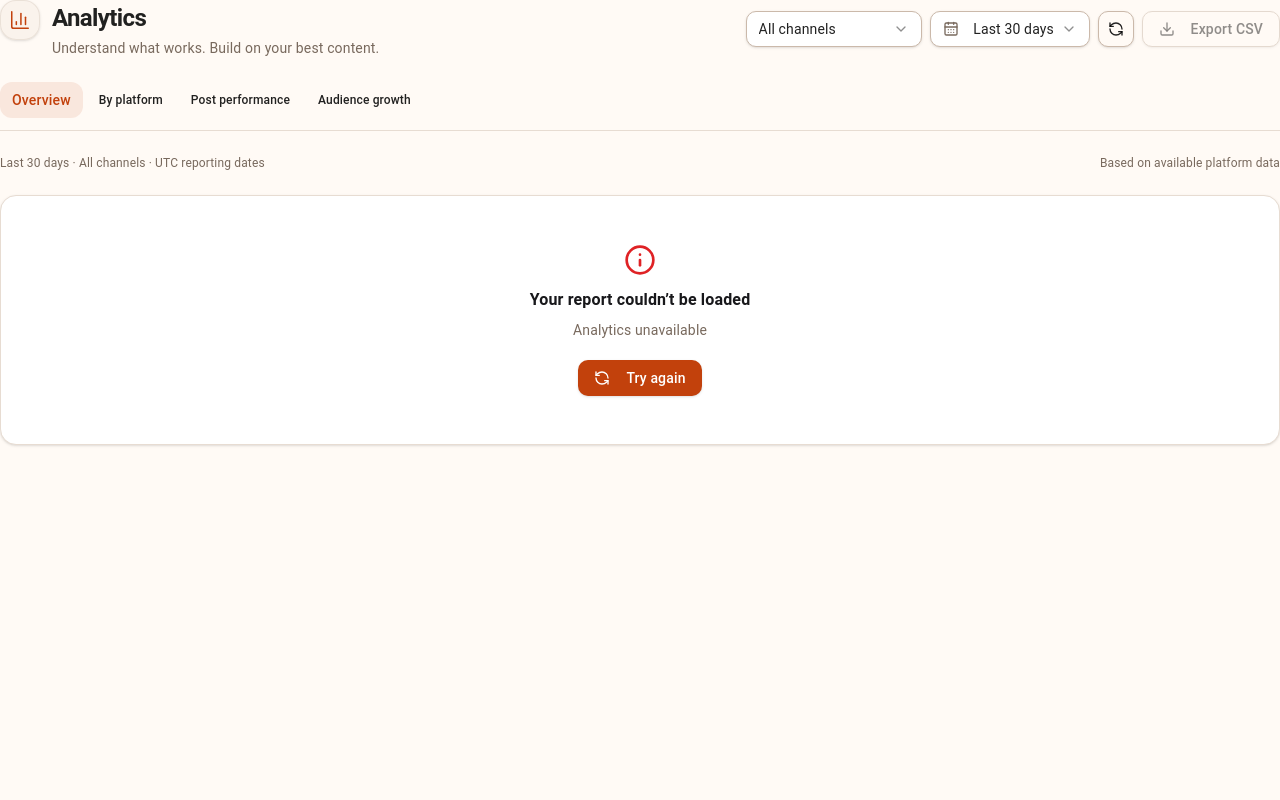
Scenario: AnalyticsOverview › retries failed reports
Click the button "Try again" at (640, 378), box [578,360,702,396]
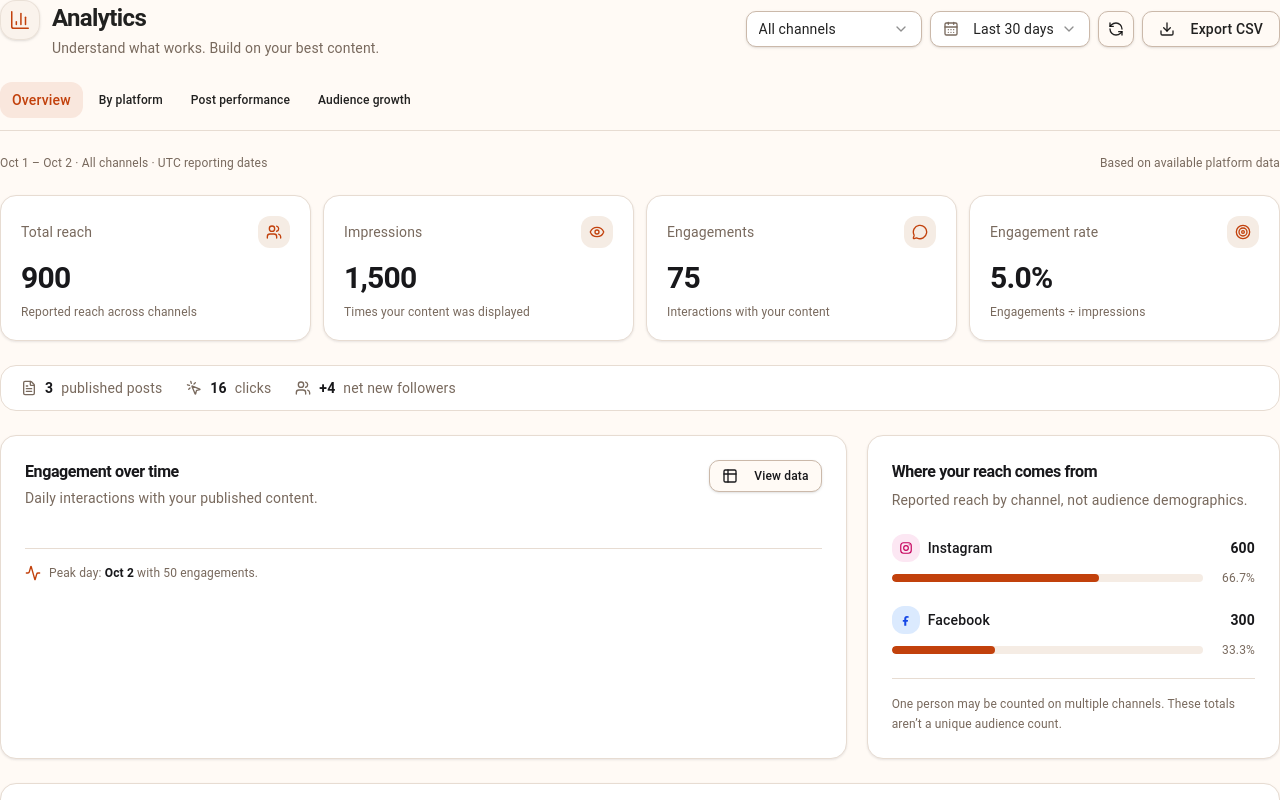
Result: the heading "Total reach" is shown at [21,222,92,242]
